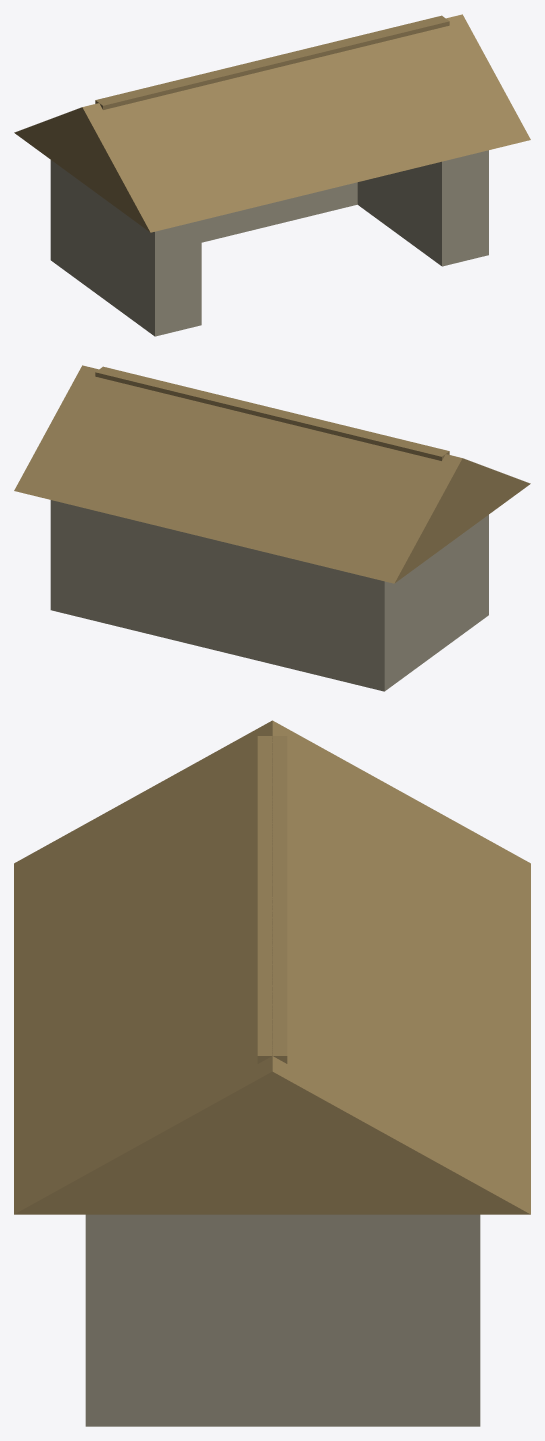
File: byre.glb
The picture shows the model from 3 angles, top to bottom: view 1: azimuth 30°, elevation 25°; view 2: azimuth 150°, elevation 25°; view 3: azimuth 270°, elevation 25°; orthographic projection. The views are drawn at different scales.
Visible parts, largest first — view 1: byre; view 2: byre; view 3: byre.
Part boxes in pixels (x1,y1,x2,y2): byre: [14, 14, 530, 336]; byre: [14, 365, 530, 691]; byre: [14, 720, 530, 1426].
Bounding box in the file's own units: 9 × 4.5 × 5.6.
